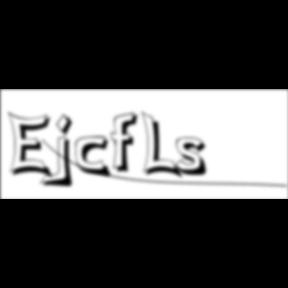E: (8, 110, 58, 182)
L: (141, 110, 185, 182)
c: (76, 136, 116, 180)
f: (111, 111, 144, 175)
j: (52, 113, 79, 191)
s: (176, 137, 215, 179)
